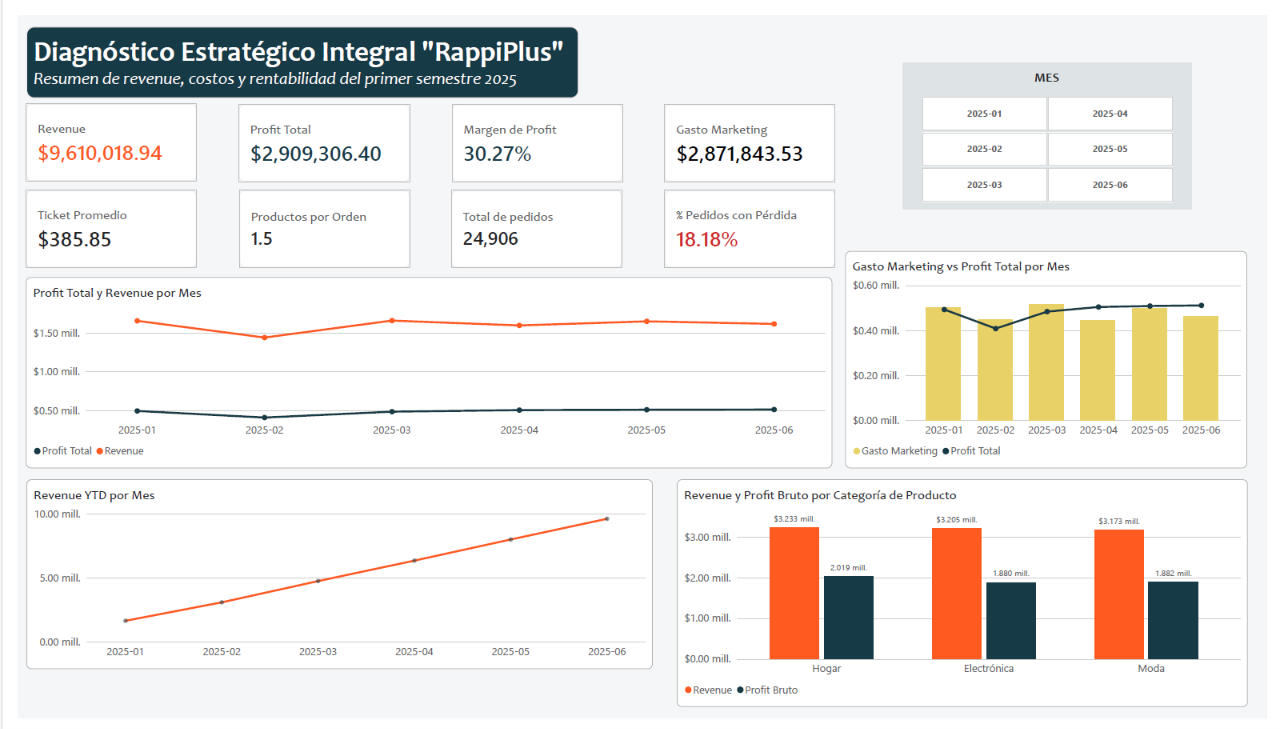

Layout of this report page (visuals, bound fields, positions):
{"tool":"powerbi","page":{"name":"Overview Ejecutivo","canvas":[1920,1080],"ordinal":0},"visuals":[{"type":"textbox","box":[13.3,16.7,848.3,110],"z":0},{"type":"cardVisual","fields":{"Data":["orders_clean.Revenue"]},"box":[12,134.7,263.3,120],"z":1000},{"type":"cardVisual","fields":{"Data":["orders_clean.Profit Total"]},"box":[339.4,136,263.3,120],"z":2000},{"type":"cardVisual","fields":{"Data":["orders_clean.Margen de profit"]},"box":[666.9,136,263,120],"z":3000},{"type":"cardVisual","fields":{"Data":["orders_clean.Gasto Marketing"]},"box":[994,136,263,120],"z":4000},{"type":"cardVisual","fields":{"Data":["orders_clean.Ticket Promedio"]},"box":[12,268,263,120],"z":5000},{"type":"cardVisual","fields":{"Data":["orders_clean.Total de pedidos"]},"box":[666,268,263,120],"z":6000},{"type":"cardVisual","fields":{"Data":["orders_clean.% Pérdida"]},"box":[994,268,263,120],"z":7000},{"type":"cardVisual","fields":{"Data":["orders_clean.Cantidad Promedio"]},"box":[340,268,263,120],"z":8000},{"type":"lineChart","title":"Profit Total y Revenue por Mes","fields":{"Category":["dim_fecha.Año-Mes"],"Y":["orders_clean.Profit Total","orders_clean.Revenue"]},"box":[12,402,1240,294],"z":9000},{"type":"lineChart","title":"Revenue YTD por Mes","fields":{"Category":["dim_fecha.Año-Mes"],"Y":["orders_clean.Revenue YTD"]},"box":[13,713,963,292],"z":10000},{"type":"clusteredColumnChart","fields":{"Category":["orders_clean.categoria_producto"],"Y":["orders_clean.Revenue","orders_clean.Profit Bruto"]},"box":[1013,713,877.8,350],"z":11000},{"type":"lineClusteredColumnComboChart","title":"Gasto Marketing vs Profit Total por Mes","fields":{"Category":["dim_fecha.Año-Mes"],"Y":["orders_clean.Gasto Marketing"],"Y2":["orders_clean.Profit Total"]},"box":[1272,362,618,334],"z":12000},{"type":"slicer","title":"MES","fields":{"Values":["dim_fecha.Año-Mes"]},"box":[1360,72,444,226],"z":13000}]}

Visuals, with their boxes in screenshot pixels (x1, y1, x2, y2), scaled from the page's 1920x1080 canvas onto the 1280x729 screenshot:
textbox: [9, 11, 574, 86]
cardVisual - orders_clean.Revenue: [8, 91, 184, 172]
cardVisual - orders_clean.Profit Total: [226, 92, 402, 173]
cardVisual - orders_clean.Margen de profit: [445, 92, 620, 173]
cardVisual - orders_clean.Gasto Marketing: [663, 92, 838, 173]
cardVisual - orders_clean.Ticket Promedio: [8, 181, 183, 262]
cardVisual - orders_clean.Total de pedidos: [444, 181, 619, 262]
cardVisual - orders_clean.% Pérdida: [663, 181, 838, 262]
cardVisual - orders_clean.Cantidad Promedio: [227, 181, 402, 262]
"Profit Total y Revenue por Mes" lineChart: [8, 271, 835, 470]
"Revenue YTD por Mes" lineChart: [9, 481, 651, 678]
clusteredColumnChart - orders_clean.categoria_producto x orders_clean.Revenue: [675, 481, 1261, 718]
"Gasto Marketing vs Profit Total por Mes" lineClusteredColumnComboChart: [848, 244, 1260, 470]
"MES" slicer: [907, 49, 1203, 201]
